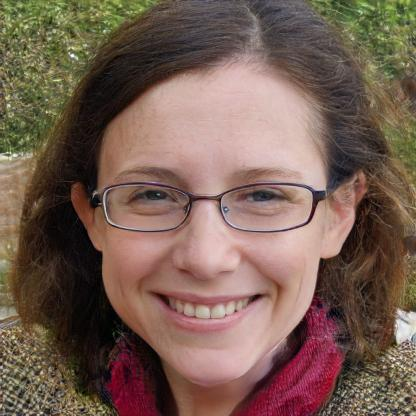glasses: (86, 176, 330, 238)
